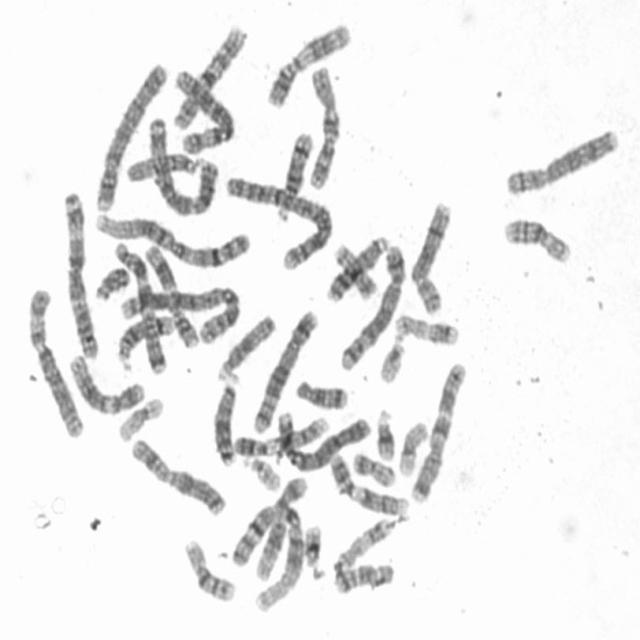A1: (88, 204, 252, 269), (227, 490, 307, 615)
A2: (220, 167, 334, 272), (115, 276, 242, 346)
A3: (144, 109, 218, 219), (57, 183, 101, 361)
B4: (89, 55, 169, 214), (270, 402, 374, 471)
B5: (334, 236, 408, 372), (248, 300, 322, 434)
C10: (168, 17, 249, 132), (302, 57, 343, 191)
C11: (260, 14, 354, 110), (139, 237, 201, 350)
C12: (250, 470, 310, 582), (63, 347, 147, 416)
C6: (21, 278, 86, 440), (168, 61, 236, 154)
C7: (405, 354, 470, 505), (109, 233, 172, 377)
C8: (500, 120, 622, 196), (405, 194, 455, 316)
C9: (324, 445, 413, 518), (229, 409, 331, 458)
D13: (322, 230, 392, 304), (208, 370, 240, 468)
D14: (270, 124, 317, 224), (111, 307, 177, 372)
D15: (212, 306, 277, 382), (122, 147, 201, 184)
E16: (179, 531, 237, 604), (498, 210, 573, 266)
E17: (327, 510, 400, 579), (389, 306, 461, 347)
E18: (328, 556, 396, 596), (290, 372, 350, 411)
F19: (113, 389, 166, 444), (394, 414, 431, 478)
F20: (331, 243, 377, 300), (347, 444, 398, 489)
G21: (370, 401, 398, 463), (298, 518, 326, 574)
G22: (237, 450, 282, 493), (374, 328, 408, 384)
X: (124, 431, 228, 518)
Y: (89, 259, 132, 303)
